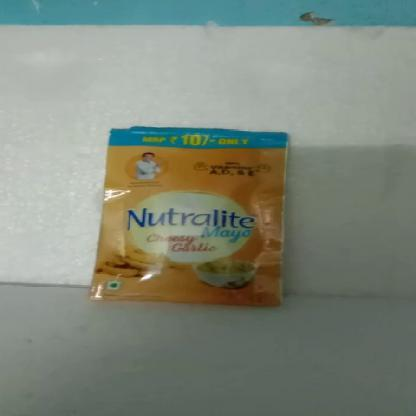Nutralite CHEESY GARLIC MAYO 30g: (112, 133, 274, 304)
